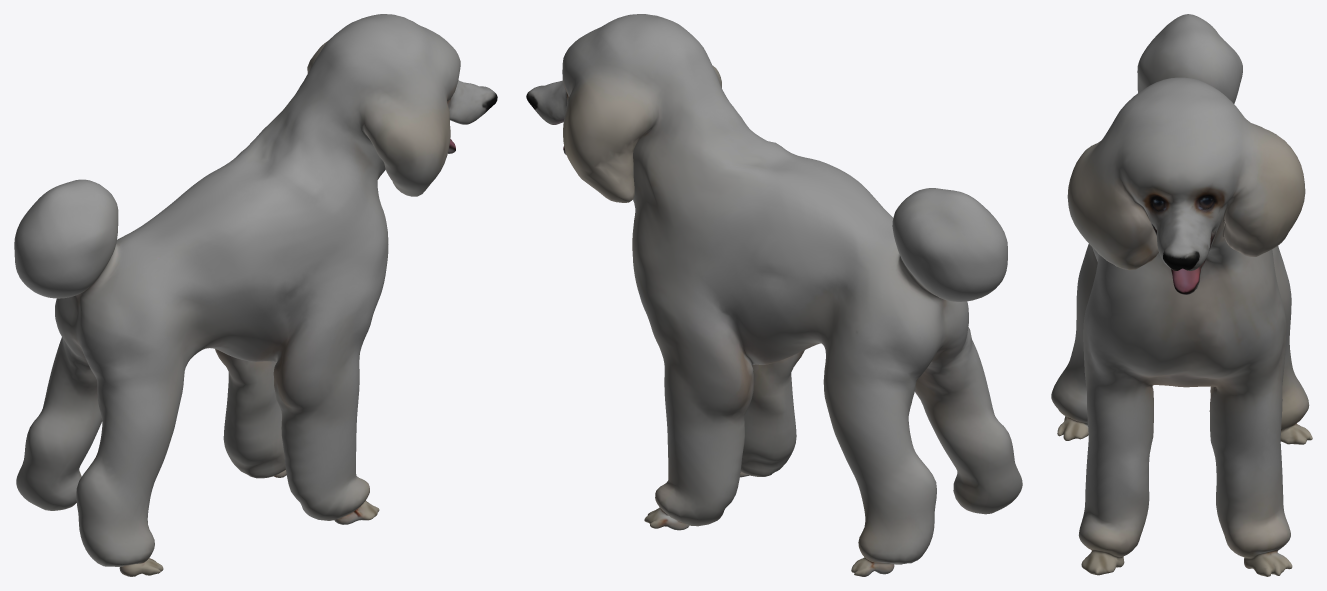
File: Белый пудель.gltf
3 views of the same model, side by side, from view 1: azimuth 30°, elevation 25°; view 2: azimuth 150°, elevation 25°; view 3: azimuth 270°, elevation 25° (orthographic). The views are drawn at different scales.
Visible parts, largest first — view 1: tripo_node_a75e0a9b.1; view 2: tripo_node_a75e0a9b.1; view 3: tripo_node_a75e0a9b.1.
Boxes of the visible parts, box(x1,y1,x2,y2) form: tripo_node_a75e0a9b.1: box(14, 14, 497, 576); tripo_node_a75e0a9b.1: box(526, 14, 1022, 576); tripo_node_a75e0a9b.1: box(1051, 14, 1312, 576).
Bounding box in the file's own units: 108 × 100 × 45.89.
Materials: 1 (1 with a texture image).
